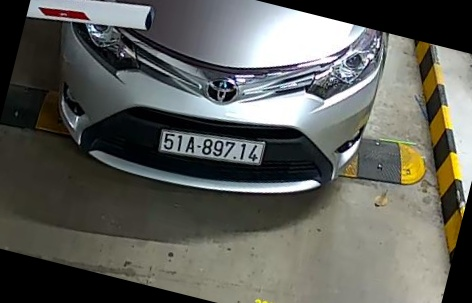plate: (156, 125, 265, 169)
